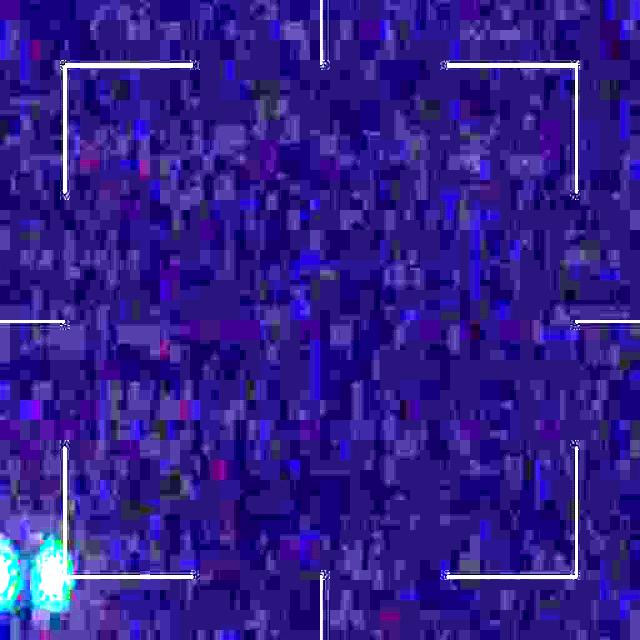bird: (0, 546, 66, 602)
